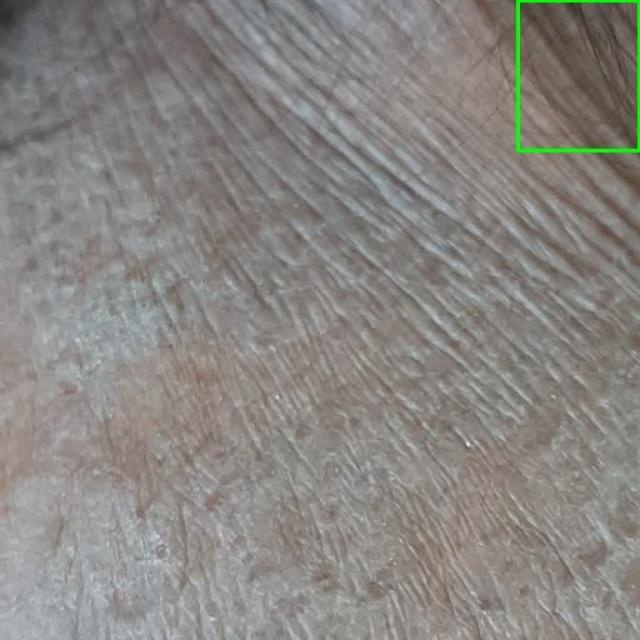Tinea Corporis: (518, 0, 639, 151)
